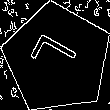L_SE: (28, 33, 86, 84)
